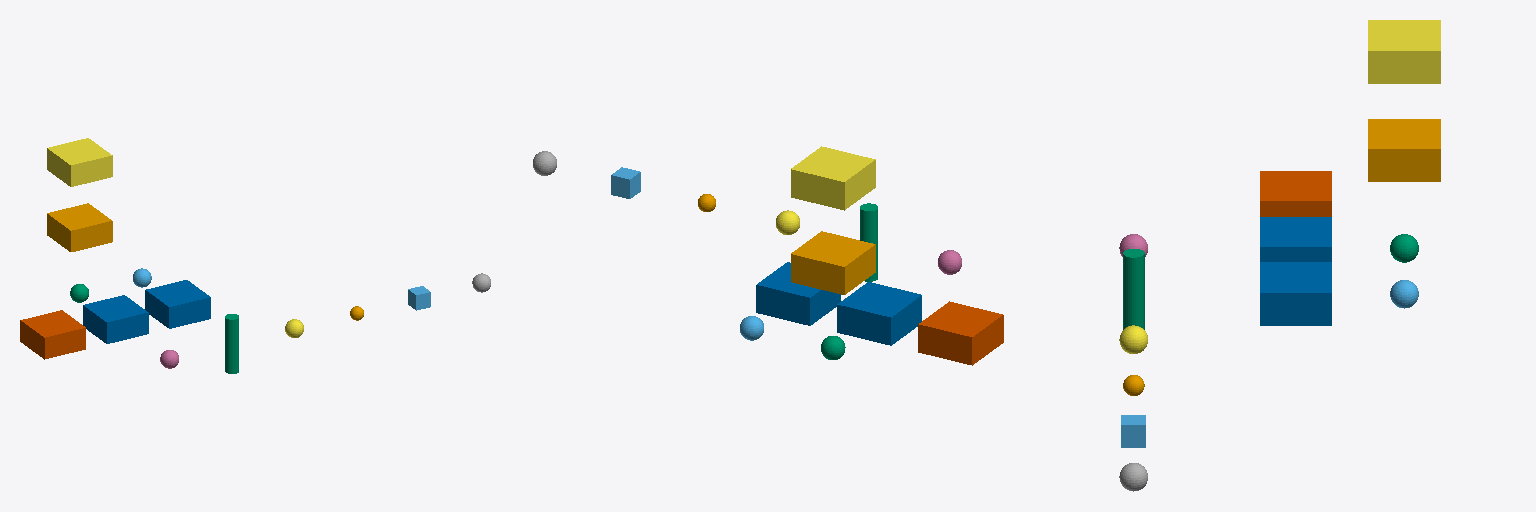
URDF robot description (robotic_elbow_configuration_apparatus):
<?xml version="1.0" ?>
<robot name="robotic_elbow_configuration_apparatus">
  <link name="actuator_canister">
    <visual>
      <geometry>
        <box size="0.04 0.04 0.02"/>
      </geometry>
    </visual>
  </link>
  <link name="bearing_means">
    <visual>
      <geometry>
        <box size="0.014 0.014 0.014"/>
      </geometry>
    </visual>
  </link>
  <link name="first_modular_actuator_assembly">
    <visual>
      <geometry>
        <sphere radius="0.008"/>
      </geometry>
    </visual>
  </link>
  <link name="gearing_means">
    <visual>
      <geometry>
        <sphere radius="0.008"/>
      </geometry>
    </visual>
  </link>
  <link name="lower_forearm">
    <visual>
      <geometry>
        <box size="0.04 0.04 0.02"/>
      </geometry>
    </visual>
  </link>
  <link name="main_arm">
    <visual>
      <geometry>
        <box size="0.04 0.04 0.02"/>
      </geometry>
    </visual>
  </link>
  <link name="motor_means">
    <visual>
      <geometry>
        <sphere radius="0.008"/>
      </geometry>
    </visual>
  </link>
  <link name="output_hub_means">
    <visual>
      <geometry>
        <sphere radius="0.008"/>
      </geometry>
    </visual>
  </link>
  <link name="position_referencing_means">
    <visual>
      <geometry>
        <sphere radius="0.006"/>
      </geometry>
    </visual>
  </link>
  <link name="second_modular_actuator_assembly">
    <visual>
      <geometry>
        <sphere radius="0.008"/>
      </geometry>
    </visual>
  </link>
  <link name="shaft_means">
    <visual>
      <geometry>
        <cylinder radius="0.006" length="0.05"/>
      </geometry>
    </visual>
  </link>
  <link name="spindle">
    <visual>
      <geometry>
        <box size="0.04 0.04 0.02"/>
      </geometry>
    </visual>
  </link>
  <link name="upper_forearm">
    <visual>
      <geometry>
        <box size="0.04 0.04 0.02"/>
      </geometry>
    </visual>
  </link>
  <joint name="_attach_first_modular_actuator_assembly_to_bearing_means" type="fixed">
    <parent link="first_modular_actuator_assembly"/>
    <child link="bearing_means"/>
    <origin xyz="0.2400 -0.1500 0.0000" rpy="0 0 0"/>
  </joint>
  <joint name="_attach_lower_forearm_to_second_modular_actuator_assembly" type="fixed">
    <parent link="lower_forearm"/>
    <child link="second_modular_actuator_assembly"/>
    <origin xyz="0.0000 0.0600 0.0000" rpy="0 0 0"/>
  </joint>
  <joint name="_attach_main_arm_to_actuator_canister" type="fixed">
    <parent link="main_arm"/>
    <child link="actuator_canister"/>
    <origin xyz="0.0600 0.0600 0.0600" rpy="0 0 0"/>
  </joint>
  <joint name="_attach_main_arm_to_gearing_means" type="fixed">
    <parent link="main_arm"/>
    <child link="gearing_means"/>
    <origin xyz="0.1800 -0.0900 0.0000" rpy="0 0 0"/>
  </joint>
  <joint name="_attach_main_arm_to_lower_forearm" type="fixed">
    <parent link="main_arm"/>
    <child link="lower_forearm"/>
    <origin xyz="0.1200 0.0000 0.0000" rpy="0 0 0"/>
  </joint>
  <joint name="_attach_main_arm_to_motor_means" type="fixed">
    <parent link="main_arm"/>
    <child link="motor_means"/>
    <origin xyz="0.0600 -0.0900 0.0000" rpy="0 0 0"/>
  </joint>
  <joint name="_attach_main_arm_to_output_hub_means" type="fixed">
    <parent link="main_arm"/>
    <child link="output_hub_means"/>
    <origin xyz="0.3600 -0.0900 0.0000" rpy="0 0 0"/>
  </joint>
  <joint name="_attach_main_arm_to_position_referencing_means" type="fixed">
    <parent link="main_arm"/>
    <child link="position_referencing_means"/>
    <origin xyz="0.2400 -0.0900 0.0000" rpy="0 0 0"/>
  </joint>
  <joint name="_attach_main_arm_to_shaft_means" type="fixed">
    <parent link="main_arm"/>
    <child link="shaft_means"/>
    <origin xyz="0.1200 -0.0900 0.0000" rpy="0 0 0"/>
  </joint>
  <joint name="_attach_main_arm_to_spindle" type="fixed">
    <parent link="main_arm"/>
    <child link="spindle"/>
    <origin xyz="0.0600 0.0600 0.1200" rpy="0 0 0"/>
  </joint>
  <joint name="_attach_main_arm_to_upper_forearm" type="fixed">
    <parent link="main_arm"/>
    <child link="upper_forearm"/>
    <origin xyz="0.0600 0.0000 0.0000" rpy="0 0 0"/>
  </joint>
  <joint name="_attach_upper_forearm_to_first_modular_actuator_assembly" type="fixed">
    <parent link="upper_forearm"/>
    <child link="first_modular_actuator_assembly"/>
    <origin xyz="0.0000 0.0600 0.0000" rpy="0 0 0"/>
  </joint>
</robot>

--- Render facts (derived) ---
The picture shows the robot from 3 angles, left to right: view 1: azimuth 30°, elevation 25°; view 2: azimuth 150°, elevation 25°; view 3: azimuth 270°, elevation 25°; orthographic projection.
Model robotic_elbow_configuration_apparatus with 13 links and 12 joints (12 fixed), rooted at main_arm, posed all joints at 0.
Links seen in each view (by area): view 1: main_arm, spindle, actuator_canister, upper_forearm, lower_forearm, shaft_means; view 2: main_arm, spindle, actuator_canister, upper_forearm, lower_forearm, shaft_means, bearing_means; view 3: spindle, lower_forearm, actuator_canister, main_arm, upper_forearm, shaft_means, bearing_means, first_modular_actuator_assembly, gearing_means, output_hub_means, second_modular_actuator_assembly.
Link boxes in pixels (bbox=[...]): main_arm: bbox=[20, 310, 85, 359]; spindle: bbox=[47, 138, 112, 186]; actuator_canister: bbox=[47, 203, 112, 251]; upper_forearm: bbox=[83, 295, 148, 343]; lower_forearm: bbox=[145, 280, 210, 328]; shaft_means: bbox=[225, 314, 238, 373]; main_arm: bbox=[918, 301, 1003, 365]; spindle: bbox=[791, 146, 875, 210]; actuator_canister: bbox=[791, 231, 875, 294]; upper_forearm: bbox=[837, 282, 921, 345]; lower_forearm: bbox=[756, 262, 840, 325]; shaft_means: bbox=[860, 203, 877, 281]; bearing_means: bbox=[611, 167, 640, 198]; spindle: bbox=[1368, 20, 1440, 83]; lower_forearm: bbox=[1260, 262, 1331, 325]; actuator_canister: bbox=[1368, 119, 1440, 181]; main_arm: bbox=[1260, 171, 1331, 216]; upper_forearm: bbox=[1260, 217, 1331, 261]; shaft_means: bbox=[1123, 249, 1144, 329]; bearing_means: bbox=[1121, 415, 1145, 447]; first_modular_actuator_assembly: bbox=[1390, 234, 1418, 262]; gearing_means: bbox=[1119, 325, 1147, 353]; output_hub_means: bbox=[1119, 463, 1147, 491]; second_modular_actuator_assembly: bbox=[1390, 280, 1418, 308].
Bounding box of the posed robot: 0.388 × 0.178 × 0.155 m (x, y, z).
Geometry: primitives only (box / cylinder / sphere), no mesh files.
